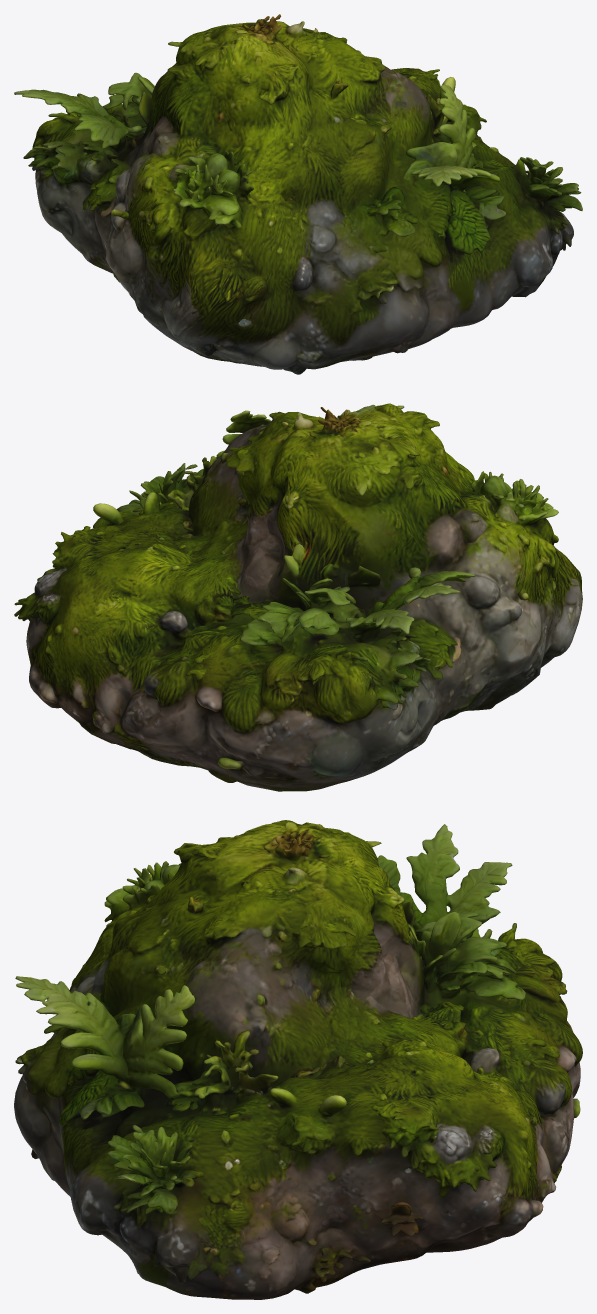
The model's file is nature-moss-rock.glb.
3 views of the same model, one above another, from view 1: azimuth 30°, elevation 25°; view 2: azimuth 150°, elevation 25°; view 3: azimuth 270°, elevation 25° (orthographic). The views are drawn at different scales.
Parts seen in each view (by area): view 1: tripo_node_b7eccddf-41d9-47ac-b1f9-575917bd8a7e; view 2: tripo_node_b7eccddf-41d9-47ac-b1f9-575917bd8a7e; view 3: tripo_node_b7eccddf-41d9-47ac-b1f9-575917bd8a7e.
Part boxes in pixels (bbox=[...]): tripo_node_b7eccddf-41d9-47ac-b1f9-575917bd8a7e: bbox=[14, 14, 582, 374]; tripo_node_b7eccddf-41d9-47ac-b1f9-575917bd8a7e: bbox=[14, 403, 582, 791]; tripo_node_b7eccddf-41d9-47ac-b1f9-575917bd8a7e: bbox=[14, 820, 582, 1299].
Size of the model in its own units: 1.6 by 1 by 1.52.
1 material, 1 textured.
